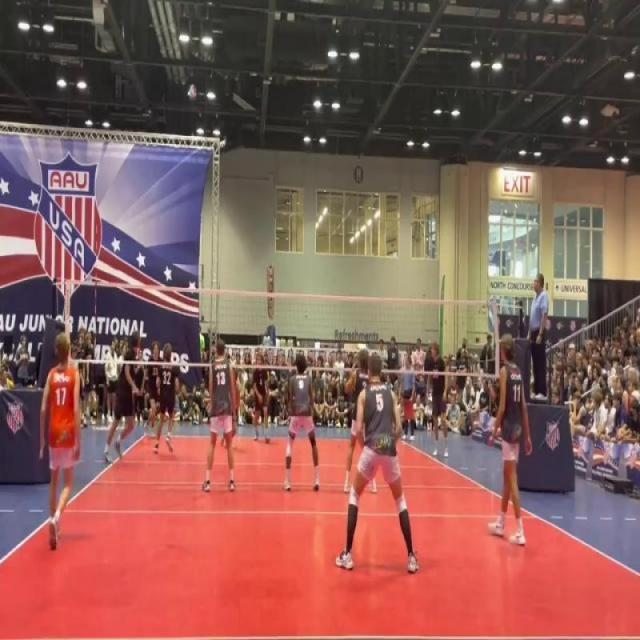volleyball: (187, 84, 198, 104)
